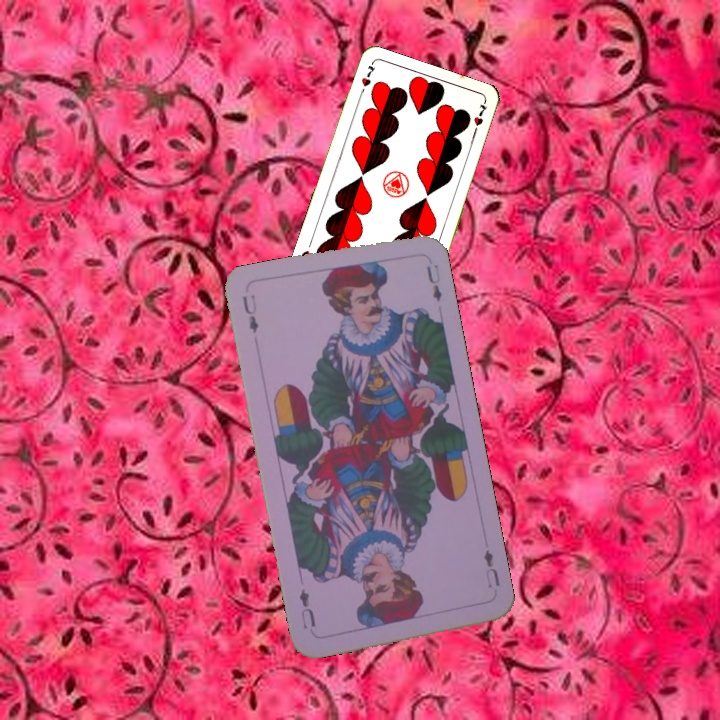EU: (238, 290, 261, 336), (479, 545, 503, 589)
H7: (356, 60, 378, 99)
